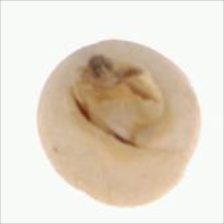L3: (74, 57, 165, 148)
L4: (36, 40, 201, 208)
